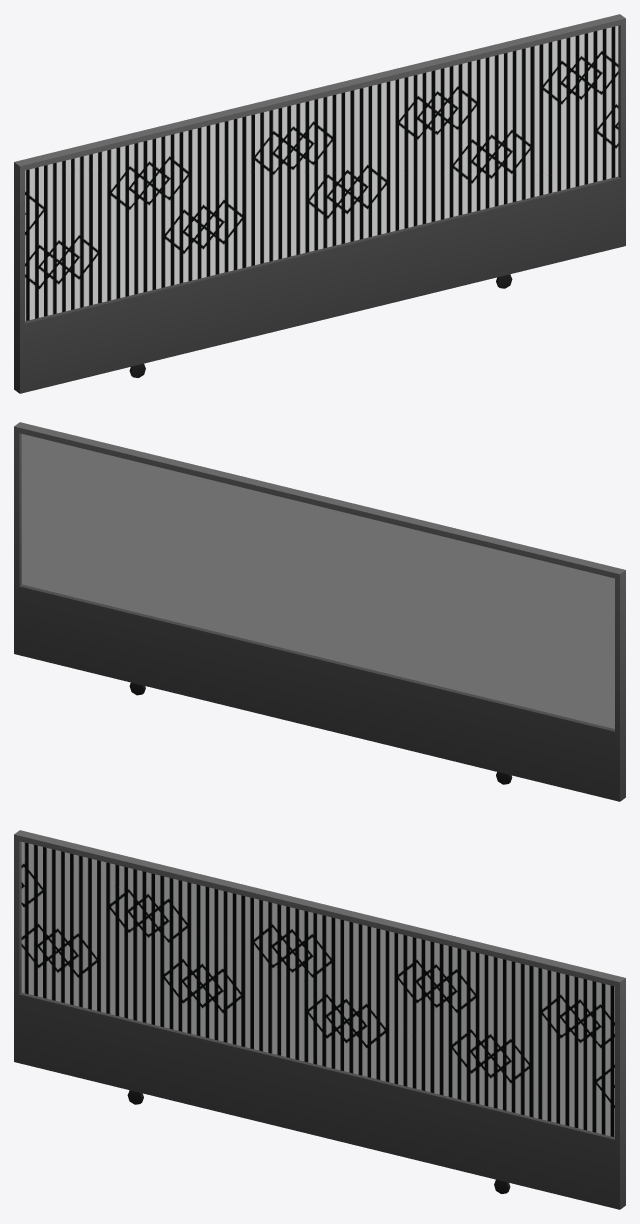
The model's file is Gate3.fbx.
The picture shows the model from 3 angles, top to bottom: view 1: azimuth 30°, elevation 25°; view 2: azimuth 150°, elevation 25°; view 3: azimuth 330°, elevation 25°; orthographic projection.
Parts seen in each view (by area): view 1: Gate3_LOD0; view 2: Gate3_LOD0; view 3: Gate3_LOD0.
Boxes of the visible parts, x1,y1,x2,y2 form: Gate3_LOD0: (14,14,625,393); Gate3_LOD0: (14,422,625,801); Gate3_LOD0: (14,830,625,1209).
Size of what is drawn, in the model's own units: 400 by 152 by 6.79.
